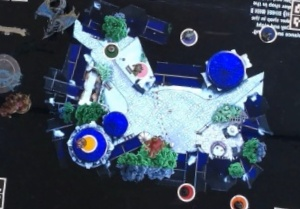blue: (257, 23, 278, 44)
green: (103, 41, 122, 59)
orange: (226, 192, 251, 209)
pink: (130, 58, 149, 78)
red: (175, 180, 200, 204)
violet: (178, 24, 201, 49)
yellow: (76, 130, 100, 155)
